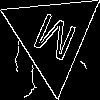M: (27, 12, 79, 72)
